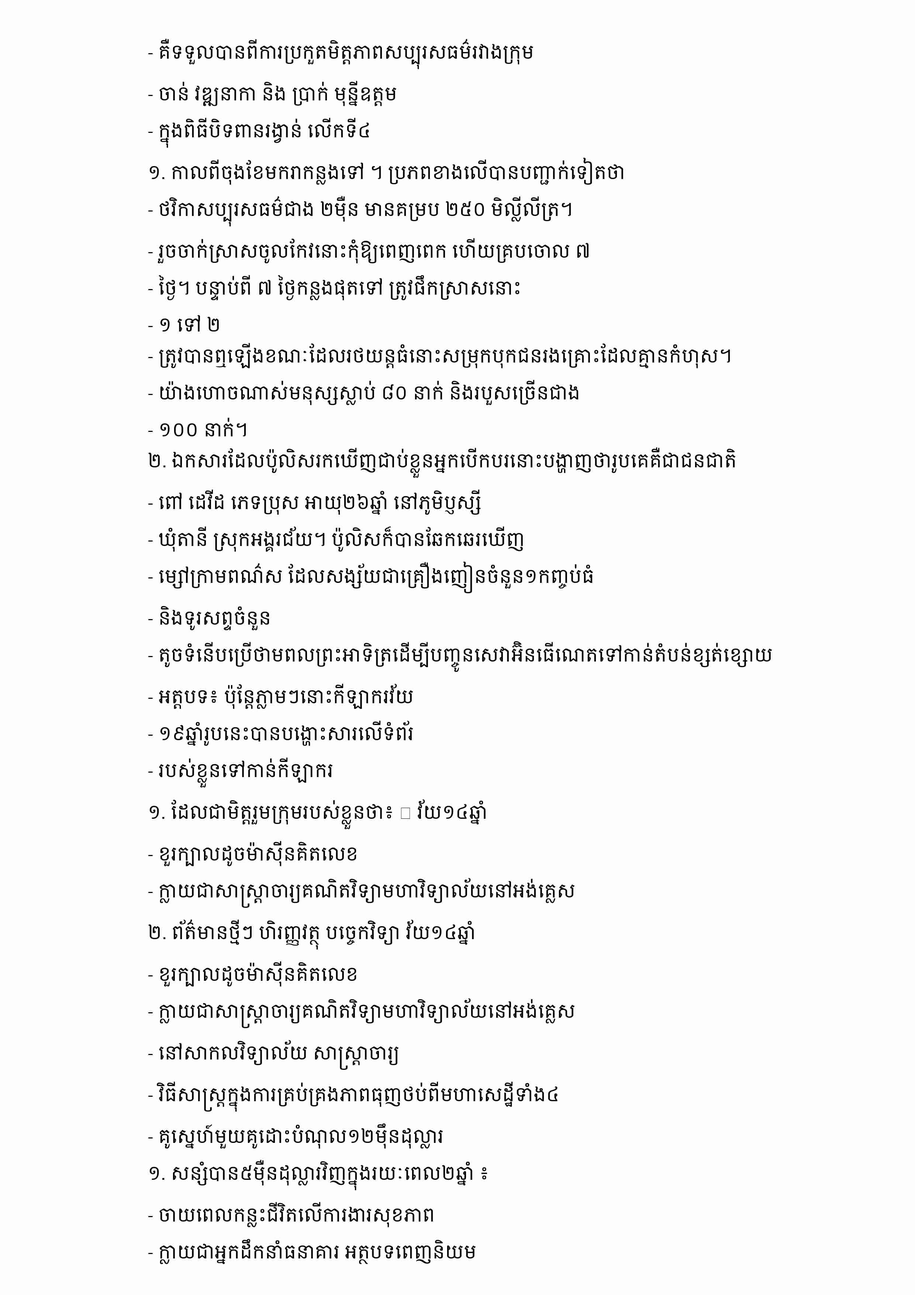text: (148, 641, 778, 672), (148, 447, 742, 478), (148, 561, 599, 594), (148, 343, 737, 368), (148, 196, 578, 227), (148, 158, 630, 185), (148, 878, 580, 908), (148, 998, 580, 1028), (148, 1082, 564, 1112), (148, 39, 539, 69), (148, 238, 596, 264), (148, 380, 585, 405), (148, 1160, 494, 1191), (148, 799, 493, 829), (148, 919, 481, 950), (148, 526, 530, 552), (148, 275, 526, 300), (148, 490, 486, 515), (148, 1239, 481, 1264), (148, 1123, 449, 1149), (148, 1040, 404, 1070), (148, 1202, 440, 1227), (148, 118, 376, 148), (148, 684, 419, 709), (148, 721, 419, 746), (148, 81, 402, 106), (148, 758, 338, 788), (148, 961, 363, 987), (148, 841, 363, 866), (148, 606, 276, 631), (148, 418, 253, 436), (148, 315, 226, 332)
